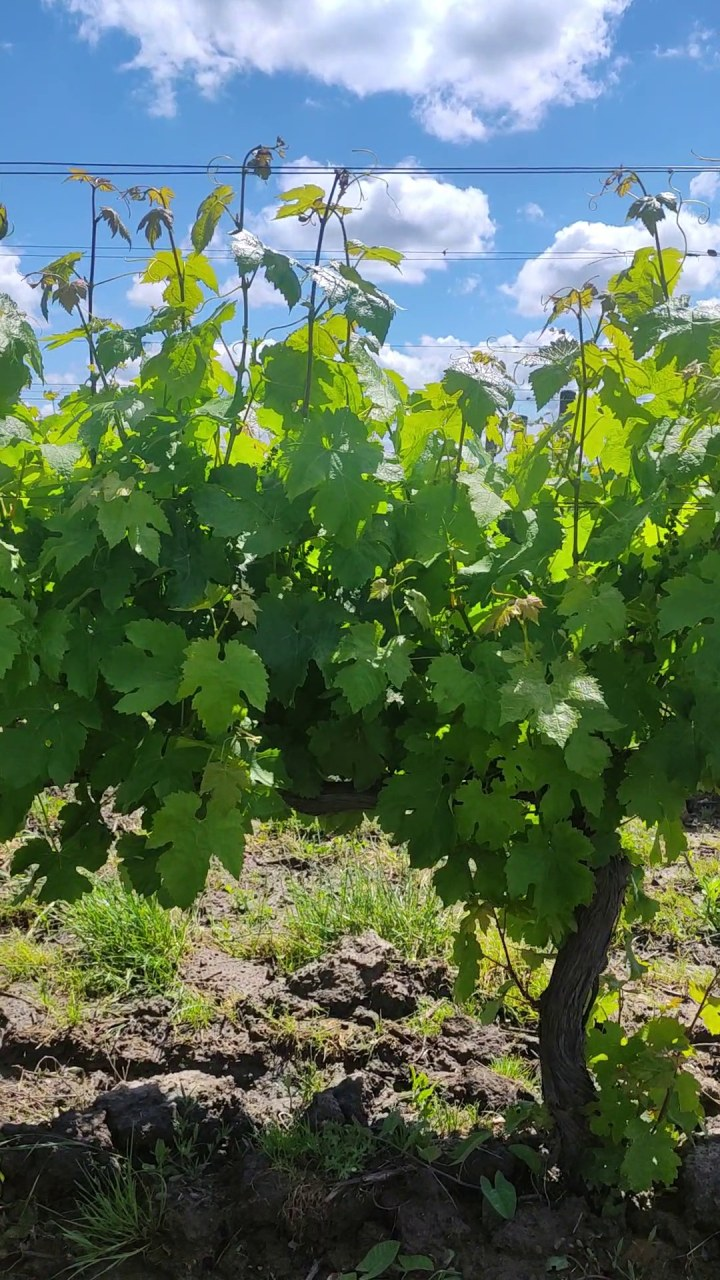vine_trunk: (539, 836, 629, 1179)
